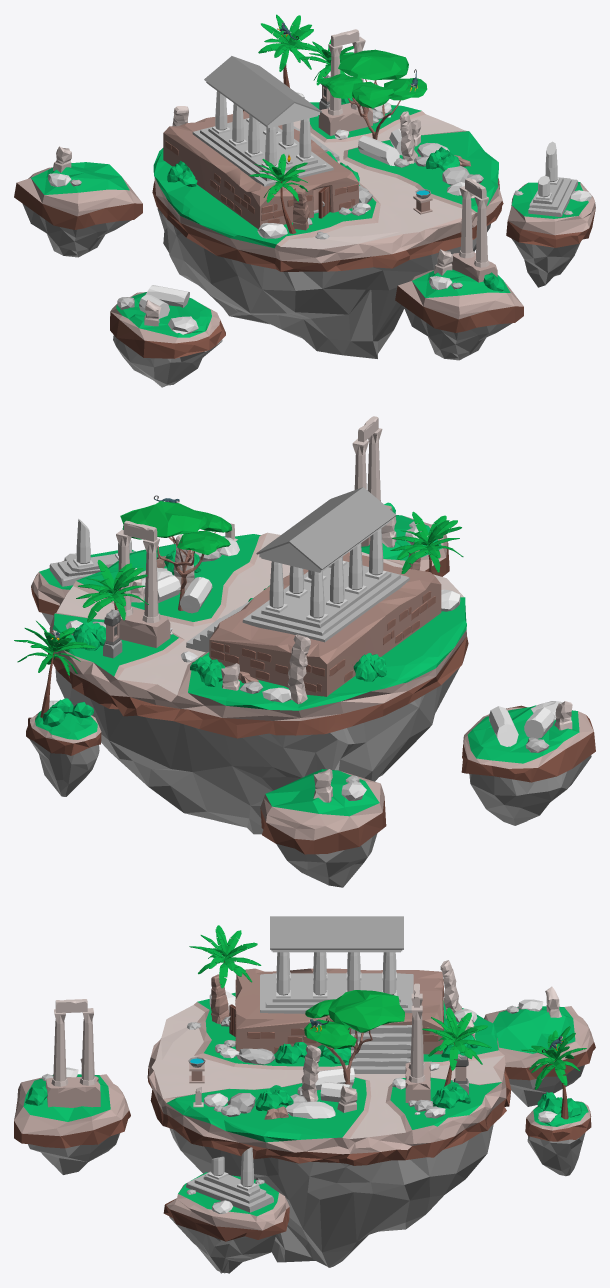
The model's file is land_24.fbx.
3 views of the same model, one above another, from view 1: azimuth 30°, elevation 25°; view 2: azimuth 150°, elevation 25°; view 3: azimuth 270°, elevation 25° (orthographic). The views are drawn at different scales.
Parts seen in each view (by area): view 1: land_14.103, land_24.012, land_24.020, land_14.084, land_14.107, land_22.060, land_22.059, land_24.013, land_24.060, land_24.004, land_24.089, land_24.091 (+6 smaller); view 2: land_14.103, land_24.012, land_24.020, land_14.084, land_22.060, land_22.062, land_24.013, land_24.004, land_24.010, land_24.011, land_24.060, land_24.089 (+9 smaller); view 3: land_14.103, land_24.012, land_14.107, land_22.059, land_24.020, land_14.084, land_24.013, land_24.060, land_22.062, land_24.089, land_24.083, land_24.004 (+9 smaller).
Boxes of the visible parts, x1,y1,x2,y2 form: land_14.103: (152, 102, 503, 358); land_24.012: (192, 56, 333, 186); land_24.020: (163, 111, 358, 228); land_14.084: (14, 162, 142, 257); land_14.107: (395, 269, 523, 360); land_22.060: (110, 292, 225, 387); land_22.059: (506, 181, 595, 287); land_24.013: (318, 49, 427, 139); land_24.060: (451, 178, 497, 282); land_24.004: (318, 29, 372, 135); land_24.089: (528, 141, 577, 216); land_24.091: (258, 14, 319, 87); land_14.103: (48, 532, 468, 834); land_24.012: (242, 487, 409, 642); land_24.020: (209, 552, 441, 696); land_14.084: (260, 769, 386, 887); land_22.060: (461, 705, 595, 825); land_22.062: (26, 710, 101, 796); land_24.013: (120, 501, 231, 610); land_24.004: (116, 520, 170, 647); land_24.010: (390, 511, 463, 573); land_24.011: (76, 560, 148, 622); land_24.060: (352, 416, 392, 546); land_24.089: (49, 518, 134, 586); land_14.103: (147, 992, 511, 1267); land_24.012: (260, 916, 413, 1013); land_14.107: (14, 1074, 130, 1174); land_22.059: (163, 1172, 289, 1273); land_24.020: (235, 968, 443, 1054); land_14.084: (484, 1006, 595, 1106); land_24.013: (304, 990, 404, 1084); land_24.060: (46, 999, 100, 1107); land_22.062: (525, 1101, 591, 1176); land_24.089: (186, 1147, 273, 1212); land_24.083: (351, 1025, 411, 1073); land_24.004: (405, 983, 430, 1102).
Bounding box in the file's own units: 27.12 × 16.09 × 27.66.
